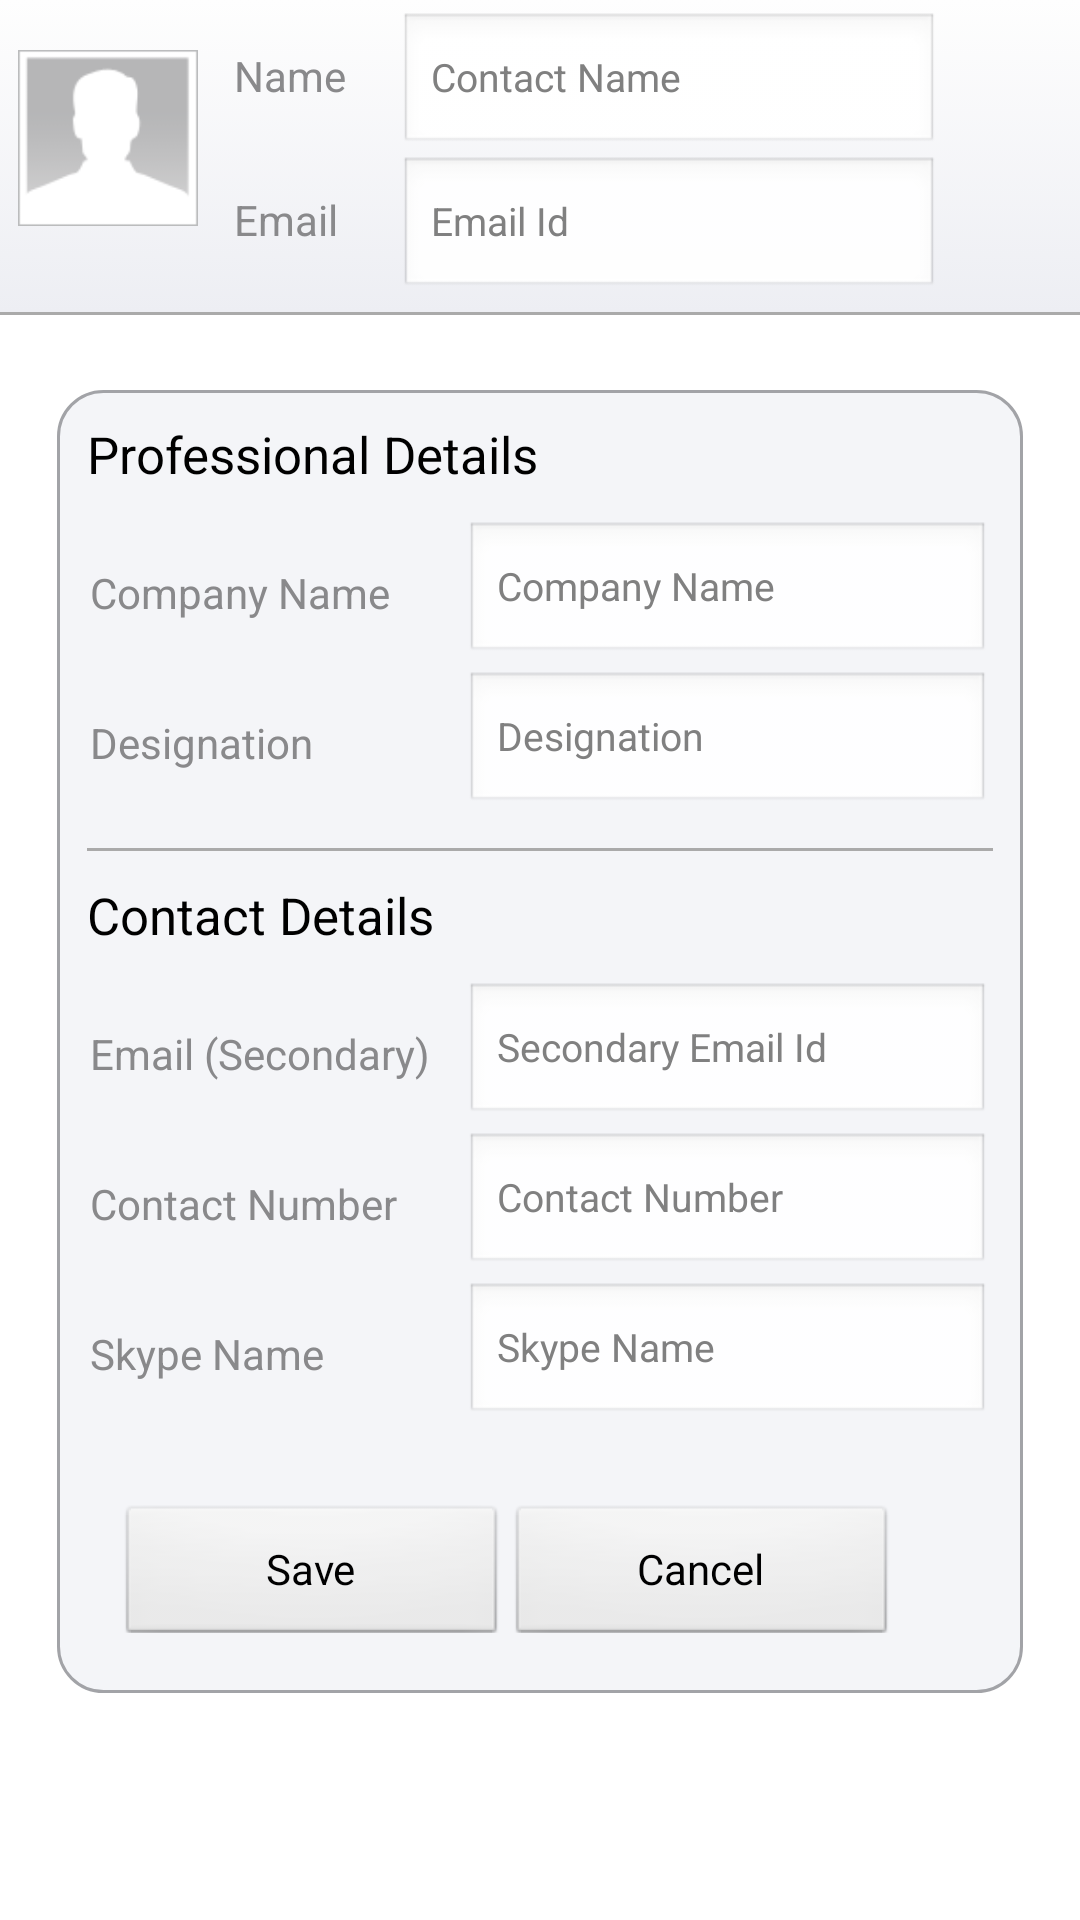

Icon bounding boxes for this 1080 x 1920 phone screenshot, format (x1, y1, x2, y2):
user: (18, 50, 198, 226)
